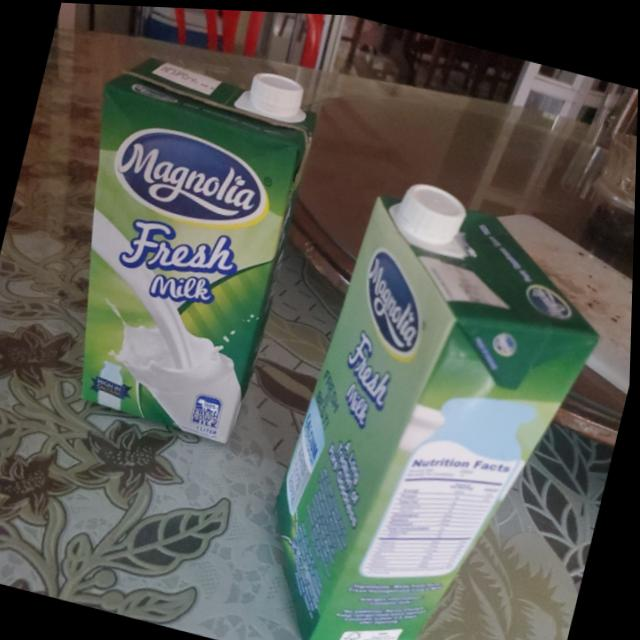milk: (241, 159, 626, 640), (26, 28, 323, 449)
